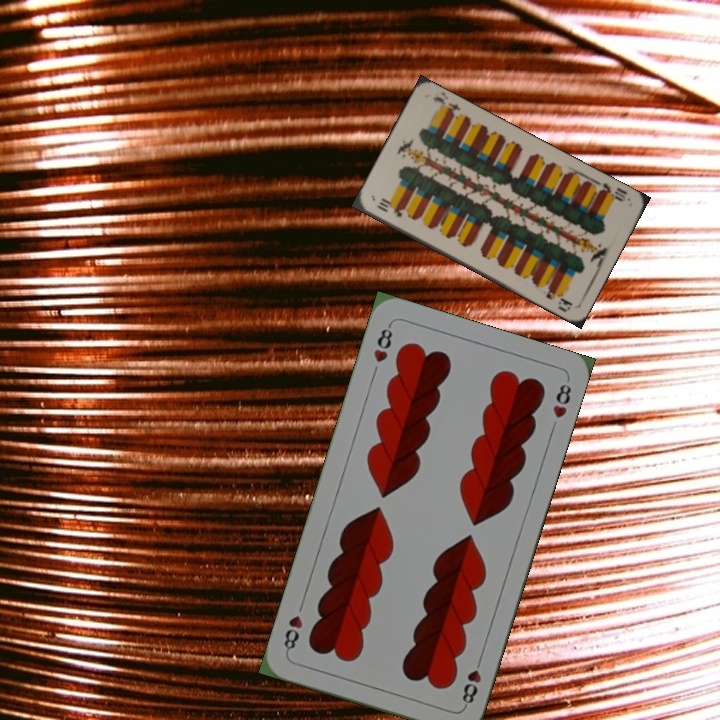E10: (594, 178, 631, 204), (373, 195, 405, 220)
H8: (457, 652, 485, 710), (369, 320, 395, 365)
